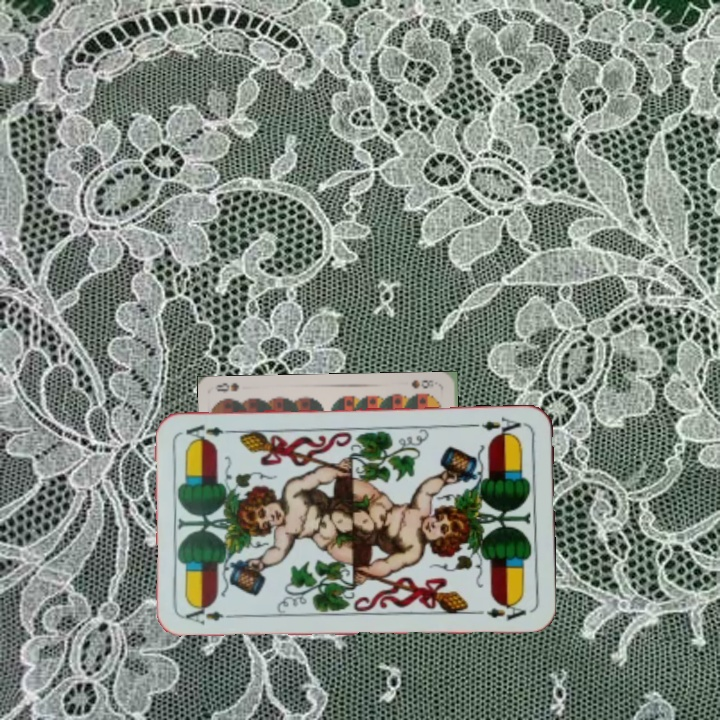EA: (181, 601, 239, 628), (469, 413, 528, 439)
S8: (407, 376, 436, 391)
